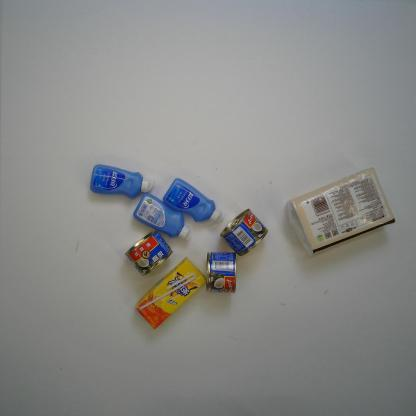Canned Food: (219, 206, 269, 258), (123, 229, 175, 278), (203, 249, 238, 295)
Drink: (133, 256, 208, 331)
Personal Hygiene: (131, 191, 192, 243), (161, 178, 225, 224), (88, 163, 154, 200)
Tissue: (284, 166, 398, 256)
